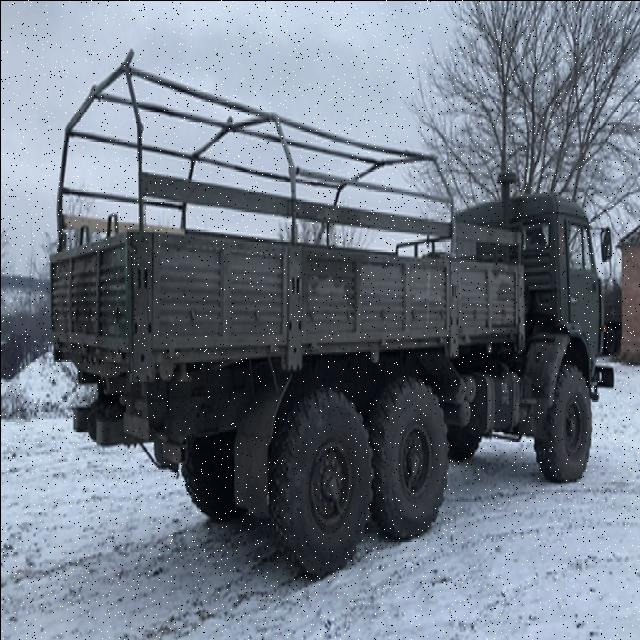TRUCK: (43, 36, 622, 580)
